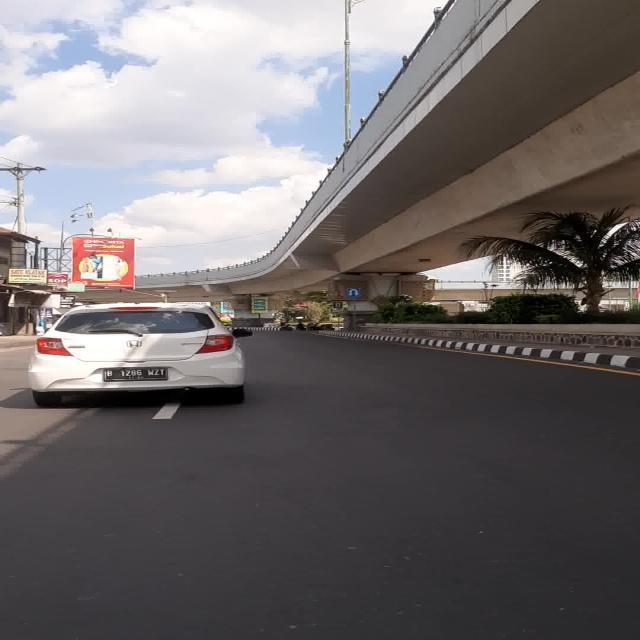Putar Balik: (347, 288, 360, 296)
